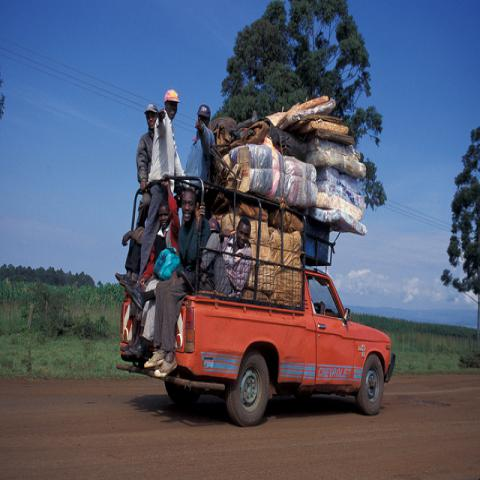truck: (122, 178, 398, 426)
